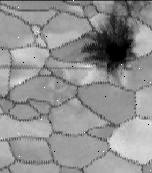good_void: (81, 8, 139, 80)
